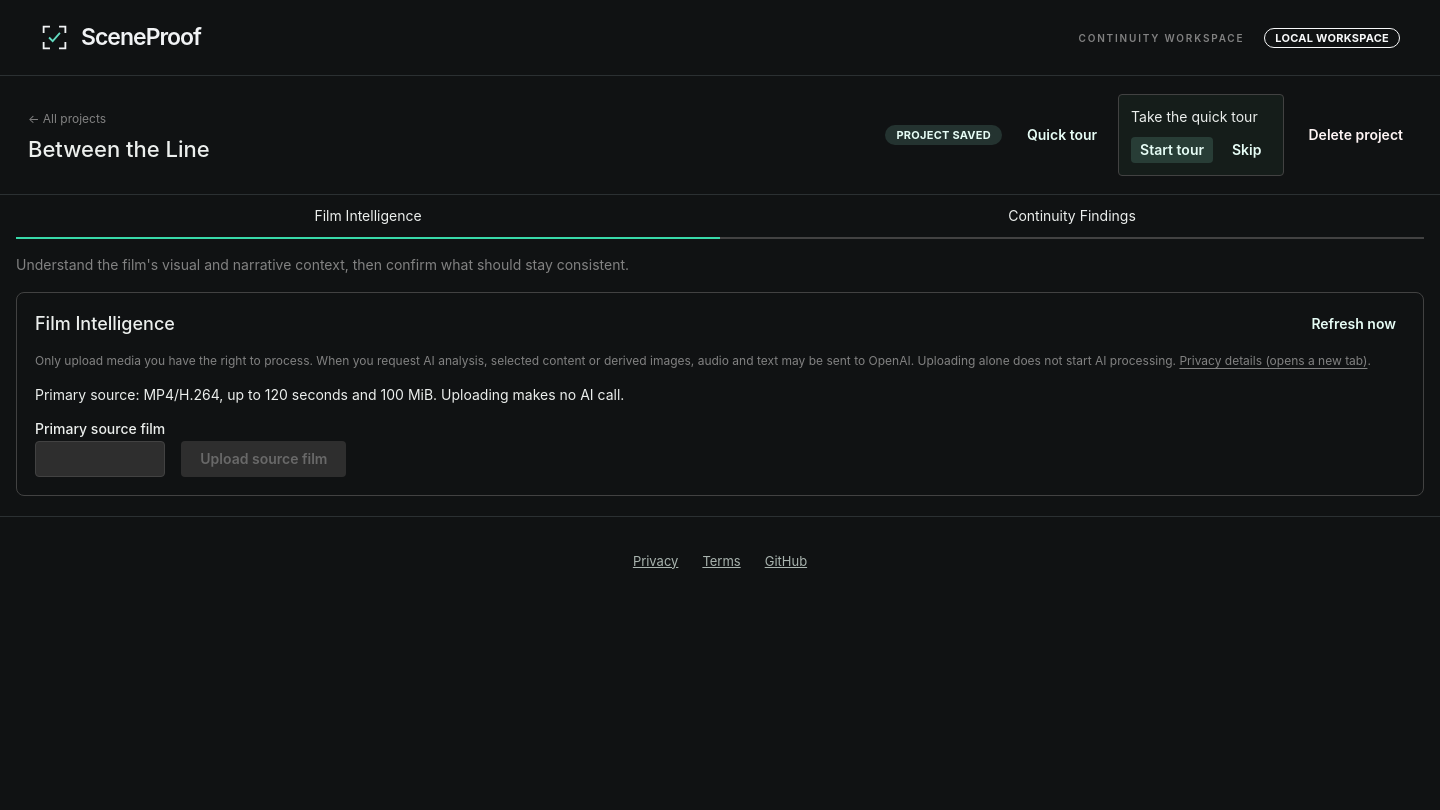
Test: project critical path › introduces Film Intelligence then reveals mounted findings targets without remounting
Click the button "Quick tour": (1062, 135) 1018,122 -> 1106,148
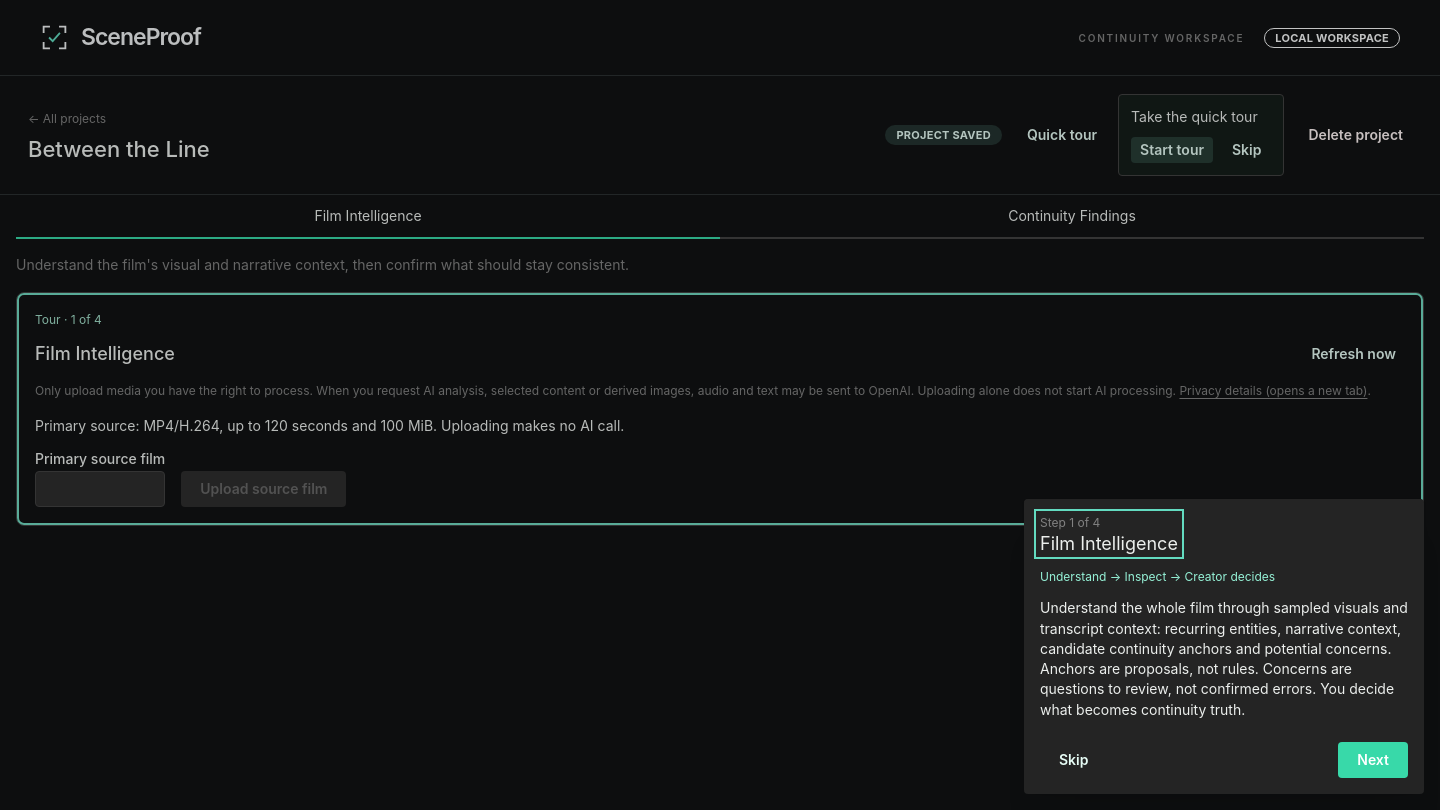
Now the dialog shows "Anchors are proposals, not rules.", box 1040,599 -> 1408,718
Click the button "Next": (1373, 760) 1338,742 -> 1408,778
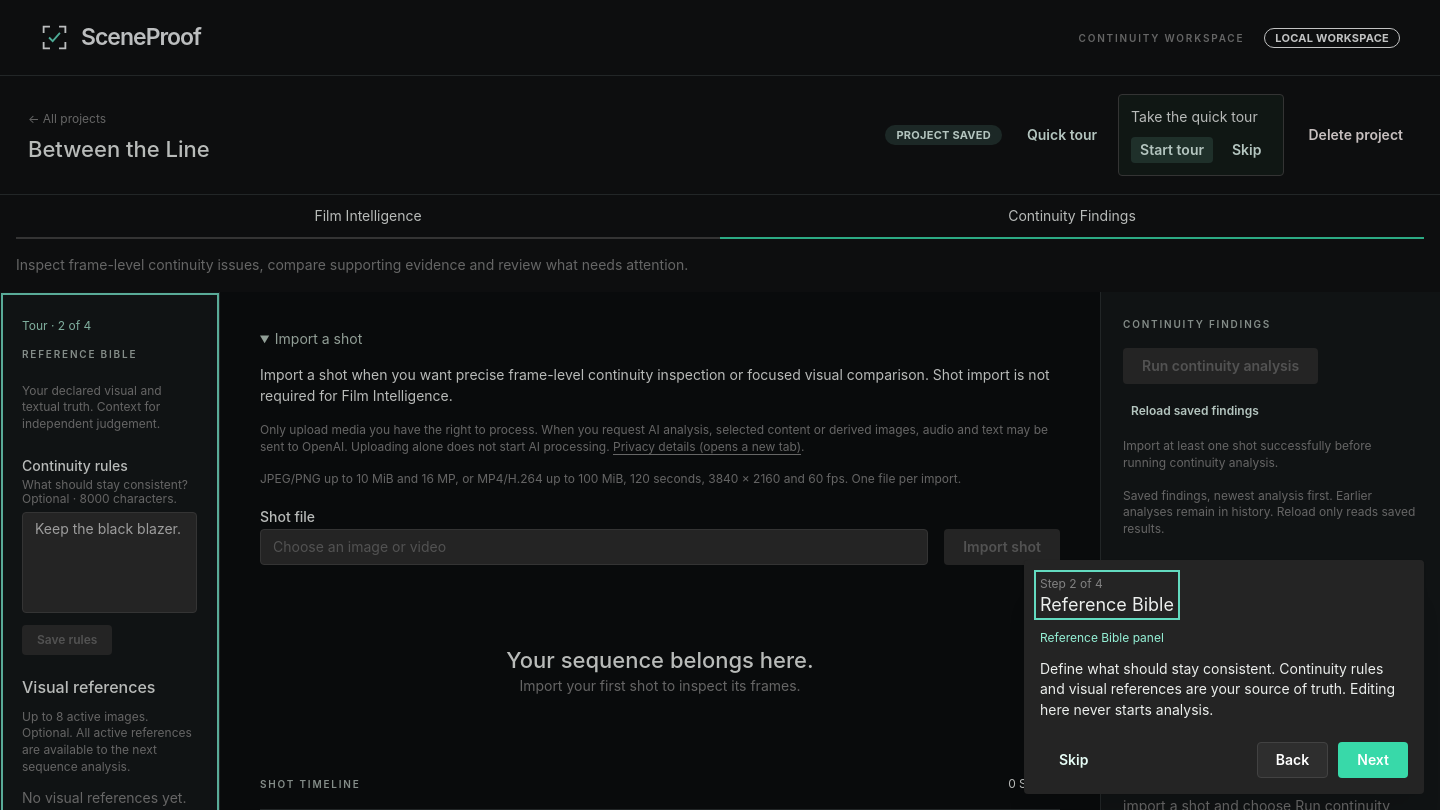
Now the text box labelled "Continuity rules" is shown, box 22,512 -> 197,613
